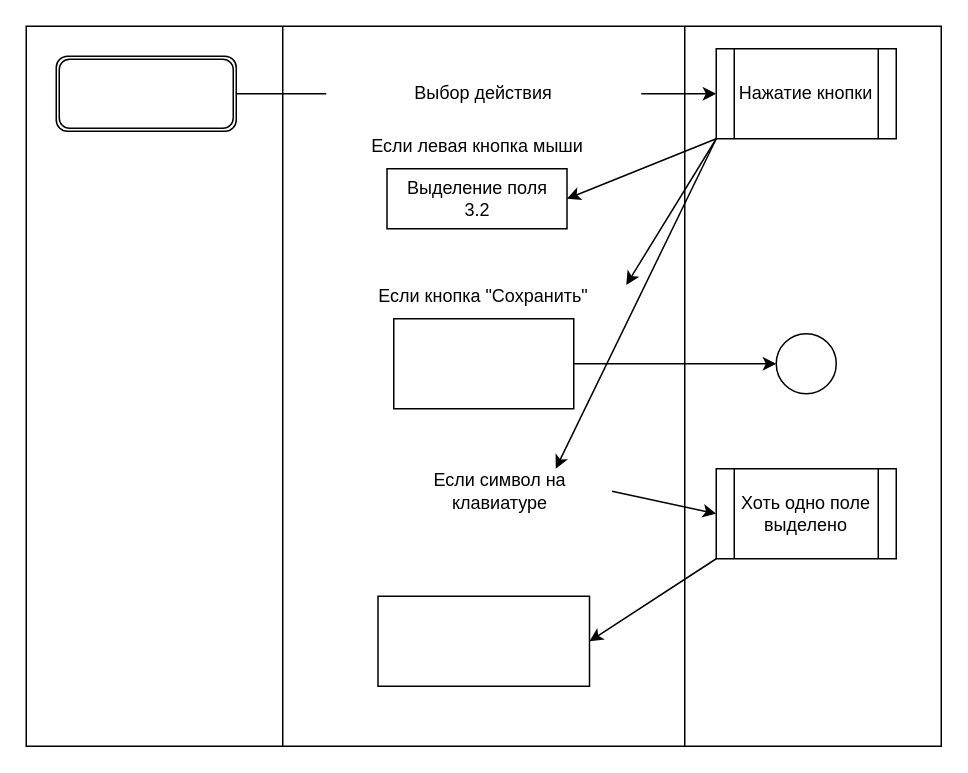
Some shapes in this 968 by 773 pixel diagram are drawn without their labels. Each missing label, with the centre of its shape:
Редактирование текста в выделенном поле 3.3: the point at 483,640
Сохранение таблицы 3.4: the point at 483,363
